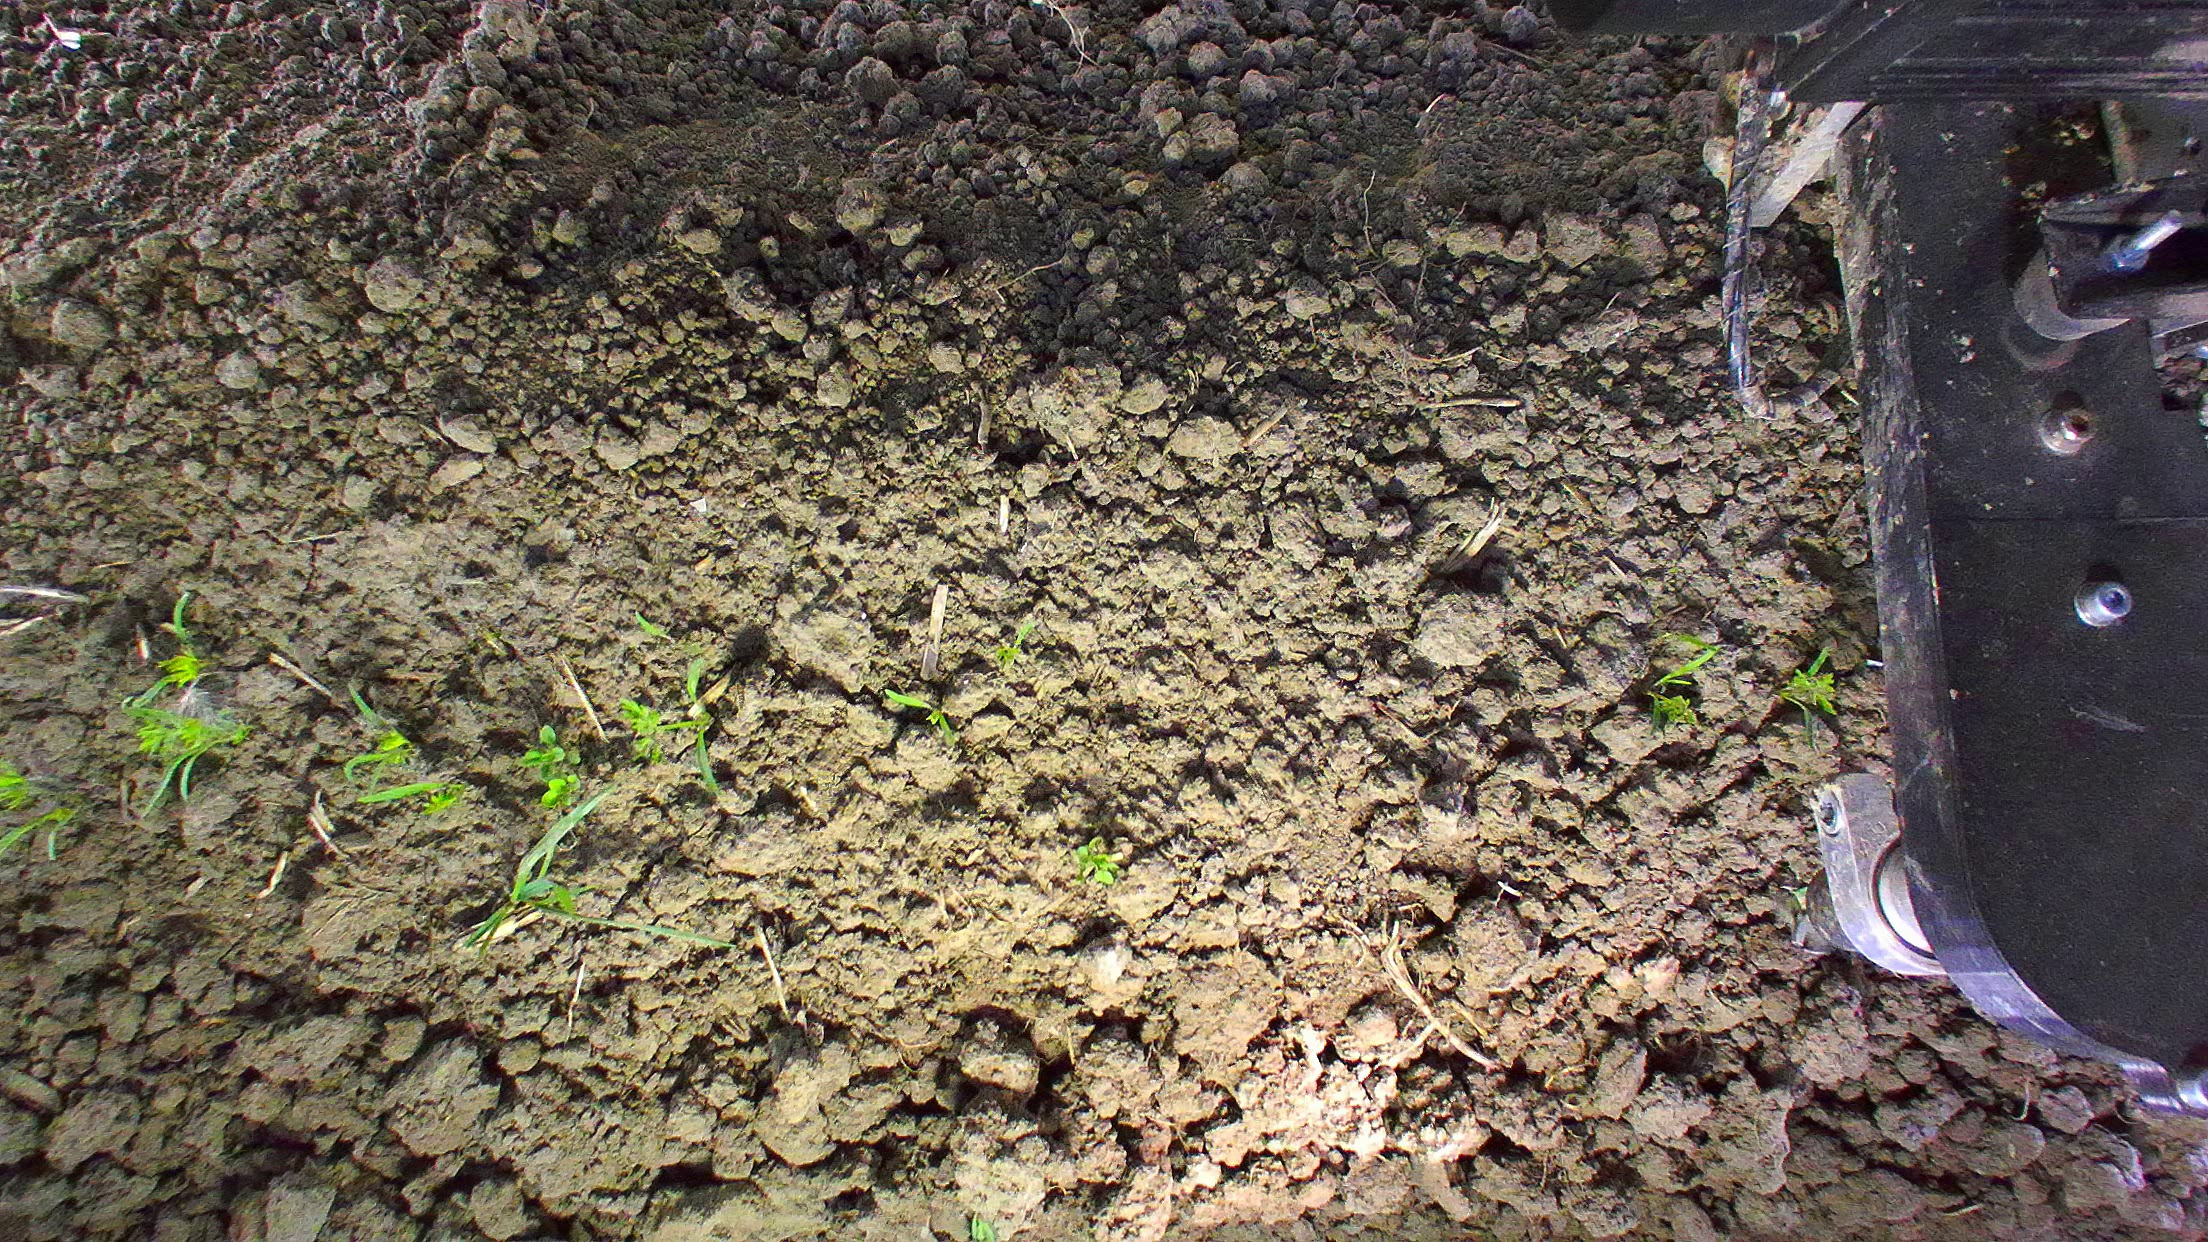Crop: (118, 585, 259, 814), (338, 685, 472, 819), (616, 663, 723, 798), (1645, 632, 1723, 735), (1777, 645, 1844, 717), (881, 685, 957, 745), (993, 623, 1034, 666), (634, 610, 672, 638)
Weed: (459, 834, 597, 958), (516, 720, 616, 826), (0, 793, 83, 863), (1072, 836, 1122, 887)
